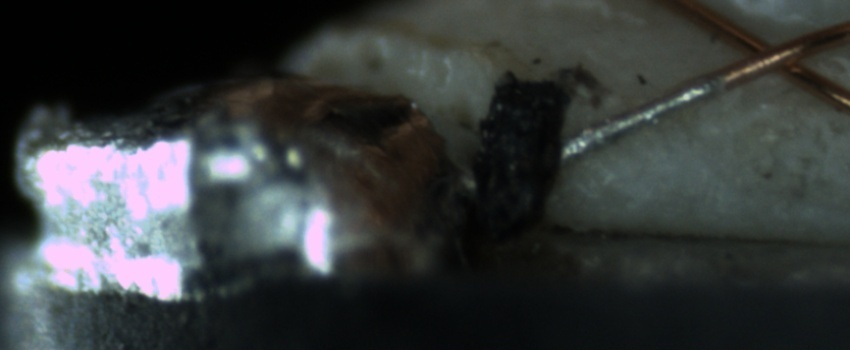CL: (722, 23, 826, 87)
TS: (500, 71, 714, 205)
TTCW: (482, 41, 779, 210)
